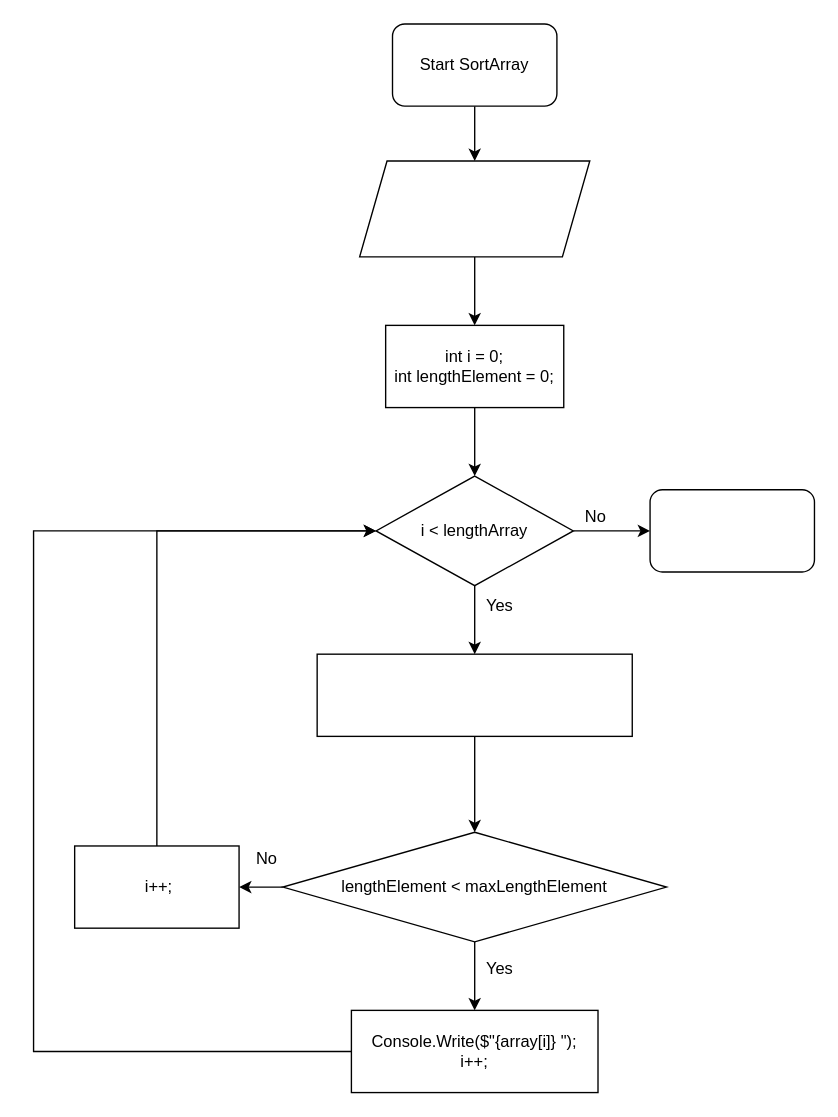
The diagram is 838 pixels wide and 1117 high, and some of its shapes have lost their labels. The shapes that lost their labels are listed below. From the top down, each one's centre as x and y in pixels, then its label:
At (474,208): "string[] array int lengthArray int maxLengthElement".
At (731,530): "Finish SortArray".
At (474,694): "lengthElement = array[i].Length;".
